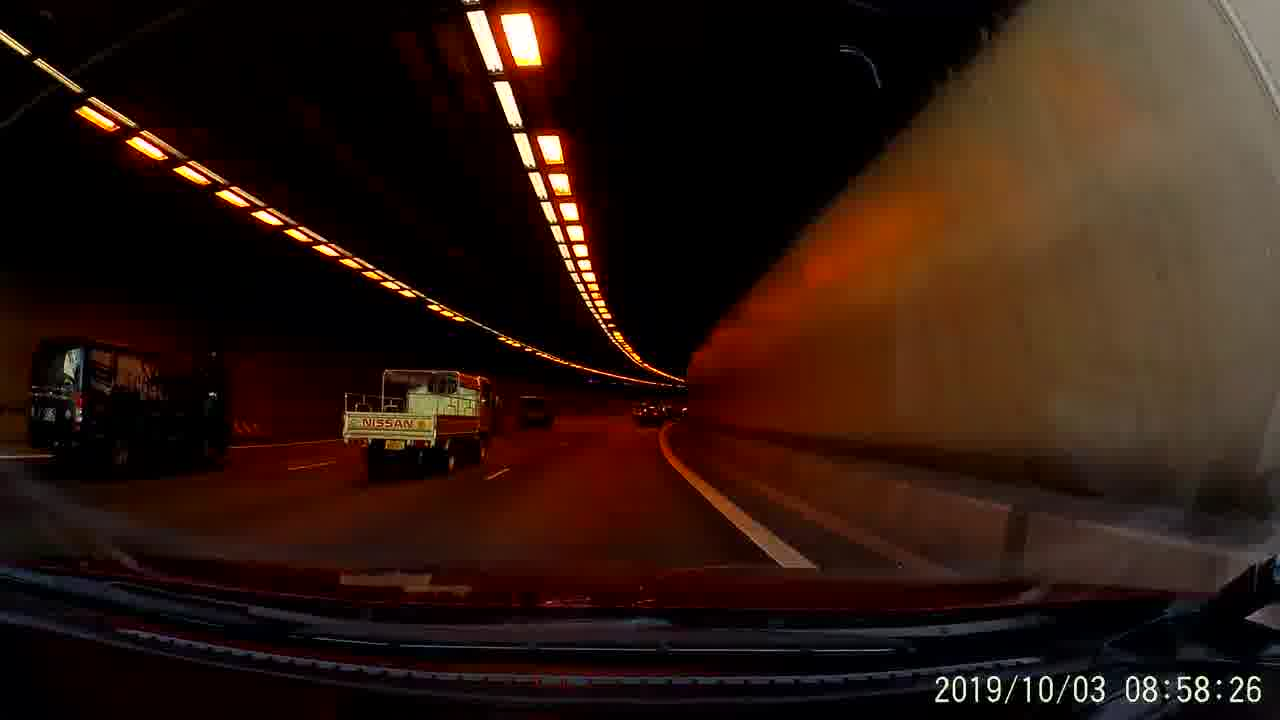car: (635, 403, 662, 430)
